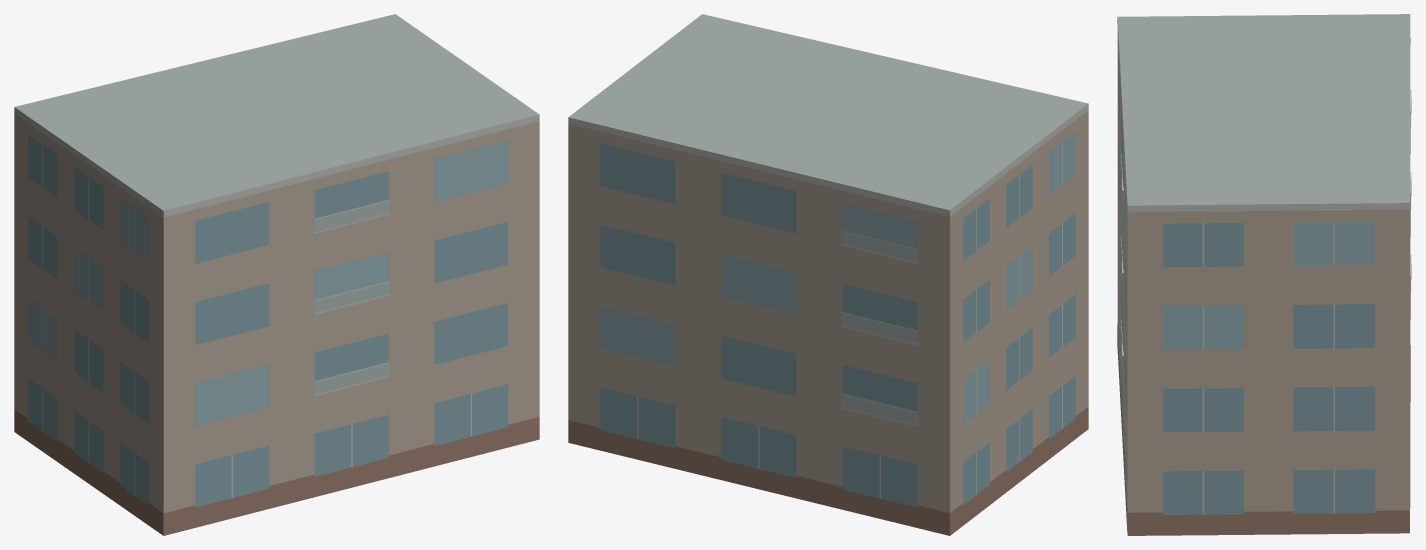
File: survey-upis-32988652.glb
3 views of the same model, side by side, from view 1: azimuth 30°, elevation 25°; view 2: azimuth 150°, elevation 25°; view 3: azimuth 270°, elevation 25° (orthographic).
Visible parts, largest first — view 1: survey-upis-32988652.tmp; view 2: survey-upis-32988652.tmp; view 3: survey-upis-32988652.tmp.
Boxes of the visible parts, left/top/right/bottom form: survey-upis-32988652.tmp: left=14, top=14, right=539, bottom=535; survey-upis-32988652.tmp: left=568, top=14, right=1088, bottom=535; survey-upis-32988652.tmp: left=1117, top=14, right=1411, bottom=535.
Bounding box in the file's own units: 15.19 × 12.2 × 9.84.
